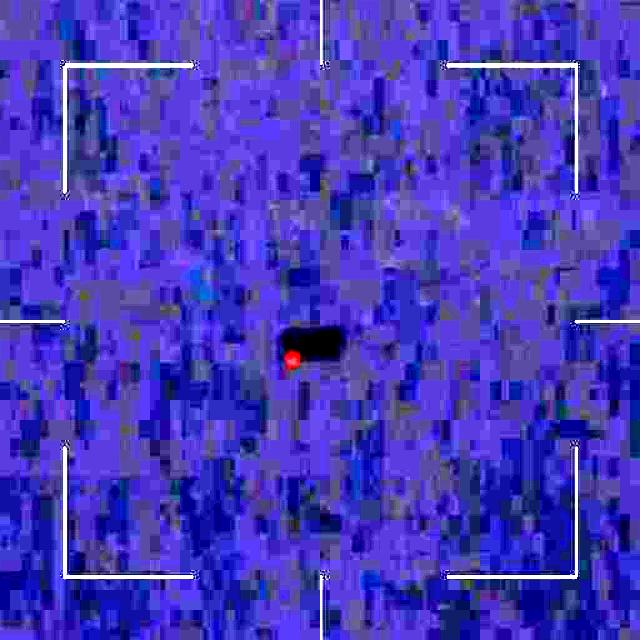bird: (278, 336, 306, 380)
